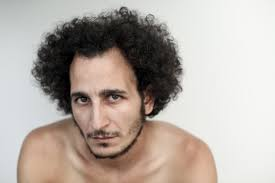middle_eastern_male: (70, 41, 153, 161)
